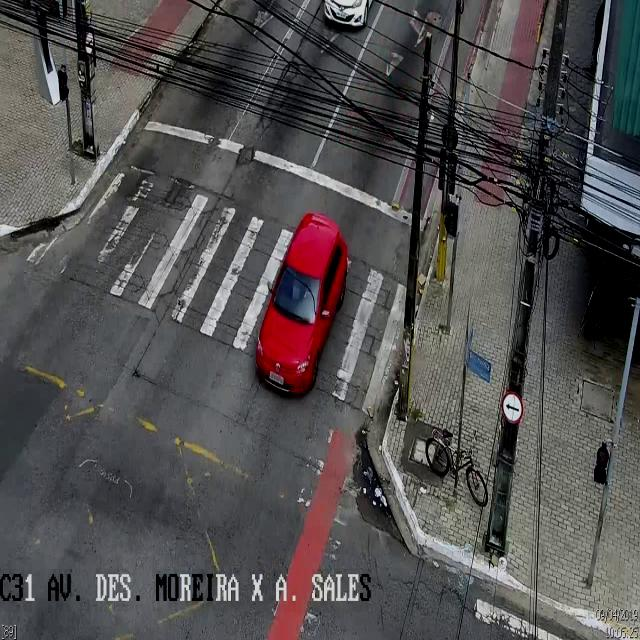Car: (254, 212, 348, 398), (314, 0, 386, 34)
